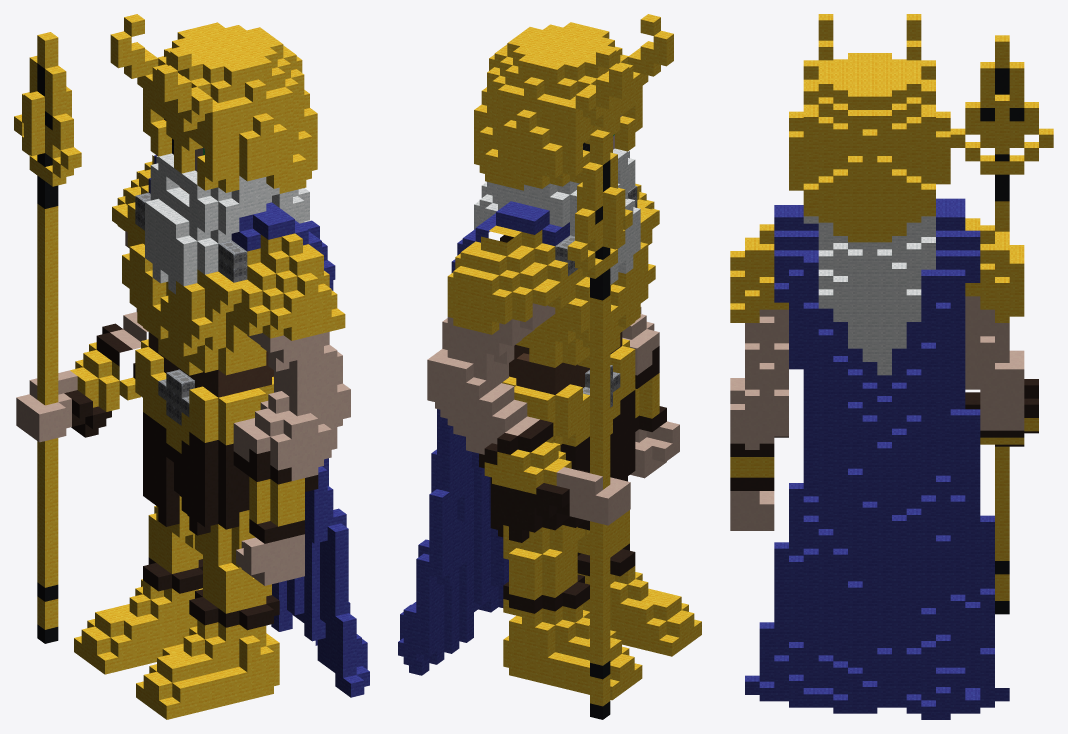
File: Odin1.glb
The picture shows the model from 3 angles, left to right: view 1: azimuth 30°, elevation 25°; view 2: azimuth 150°, elevation 25°; view 3: azimuth 270°, elevation 25°; orthographic projection. The views are drawn at different scales.
Parts seen in each view (by area): view 1: node_8, node_11, node_5, node_9, node_12, node_7, node_6, node_10, node_13; view 2: node_11, node_5, node_9, node_8, node_12, node_6, node_13, node_10, node_2, node_14, node_1; view 3: node_8, node_11, node_5, node_1, node_9, node_6, node_12, node_3, node_7, node_10, node_13, node_2.
Part boxes in pixels (x1,y1,x2,y2): node_8: (119, 177, 350, 481); node_11: (81, 412, 361, 702); node_5: (52, 14, 317, 239); node_9: (29, 155, 154, 405); node_12: (16, 390, 119, 629); node_7: (270, 273, 345, 484); node_6: (14, 32, 71, 186); node_10: (243, 475, 318, 585); node_13: (74, 615, 369, 719); node_11: (431, 373, 694, 681); node_5: (474, 14, 673, 248); node_9: (427, 236, 610, 495); node_8: (437, 182, 659, 451); node_12: (416, 469, 630, 706); node_6: (567, 129, 623, 278); node_13: (424, 593, 701, 700); node_10: (646, 406, 679, 466); node_2: (403, 604, 416, 653); node_14: (409, 657, 610, 719); node_1: (400, 511, 498, 628); node_8: (745, 218, 980, 474); node_11: (745, 443, 980, 687); node_5: (774, 14, 980, 255); node_1: (789, 501, 965, 706); node_9: (980, 174, 1038, 437); node_6: (980, 35, 1053, 174); node_12: (980, 431, 1038, 647); node_3: (789, 688, 980, 719); node_7: (730, 251, 744, 443); node_10: (730, 443, 744, 530); node_13: (745, 675, 788, 701); node_2: (980, 648, 994, 694).
Size of the model in its own units: 19 by 46 by 22.
1 material, 1 textured.
